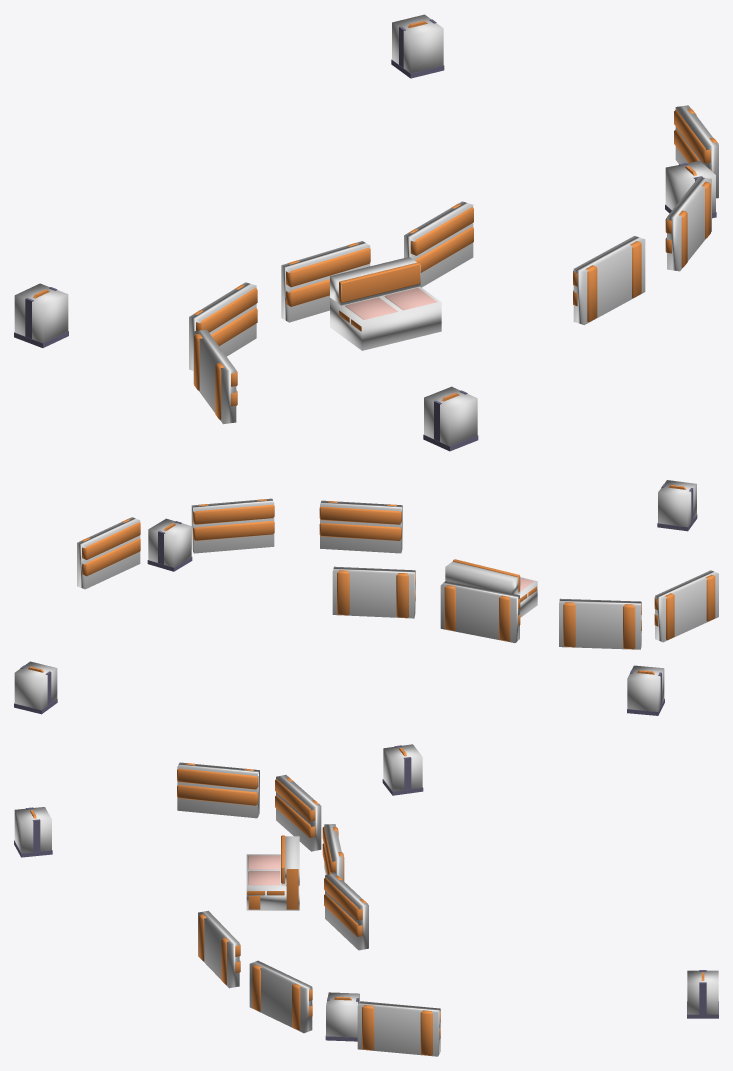
File: sceneryDynamic.glb
3 renders of one model, top to bottom at view 1: azimuth 30°, elevation 25°; view 2: azimuth 150°, elevation 25°; view 3: azimuth 270°, elevation 25°, orthographic. The views are drawn at different scales.
Parts seen in each view (by area): view 1: cube, cube.006, Cube.162, Cube.158, Cube.150, cube.007, Cube.134, cube.004, Cube.131, Cube.048, cube.005, cube.003 (+11 smaller); view 2: cube.002, cube.003, cube.005, cube.004, Cube.135, Cube.136, cube.007, cube.006, Cube.137, cube.008, Cube.150, Cube.154 (+10 smaller); view 3: cube.008, cube.007, Cube.133, cube.004, cube.006, Cube.162, cube.002, Cube.158, Cube.154, cube.003, Cube.150, Cube.137 (+8 smaller).
Part boxes in pixels (x1=…): cube: x1=330, y1=286, x2=441, y2=350; cube.006: x1=573, y1=236, x2=645, y2=325; Cube.162: x1=14, y1=283, x2=68, y2=342; Cube.158: x1=424, y1=386, x2=477, y2=446; Cube.150: x1=392, y1=14, x2=443, y2=73; cube.007: x1=667, y1=177, x2=711, y2=271; Cube.134: x1=286, y1=242, x2=370, y2=306; cube.004: x1=193, y1=329, x2=236, y2=424; Cube.131: x1=409, y1=203, x2=473, y2=272; Cube.048: x1=339, y1=262, x2=420, y2=331; cube.005: x1=281, y1=241, x2=370, y2=322; cube.003: x1=404, y1=201, x2=473, y2=287; cube.002: x1=559, y1=598, x2=641, y2=649; cube.003: x1=332, y1=566, x2=415, y2=618; cube.005: x1=440, y1=581, x2=519, y2=642; cube.004: x1=655, y1=570, x2=718, y2=642; Cube.135: x1=319, y1=501, x2=401, y2=540; Cube.136: x1=193, y1=499, x2=274, y2=540; cube.007: x1=191, y1=498, x2=274, y2=553; cube.006: x1=320, y1=500, x2=402, y2=553; Cube.137: x1=82, y1=519, x2=140, y2=576; cube.008: x1=77, y1=517, x2=140, y2=589; Cube.150: x1=14, y1=661, x2=57, y2=709; Cube.154: x1=148, y1=518, x2=191, y2=567; cube.008: x1=357, y1=1001, x2=440, y2=1056; cube.007: x1=249, y1=960, x2=312, y2=1033; Cube.133: x1=177, y1=763, x2=258, y2=805; cube.004: x1=177, y1=762, x2=259, y2=818; cube.006: x1=198, y1=910, x2=239, y2=988; Cube.162: x1=383, y1=744, x2=422, y2=791; cube.002: x1=276, y1=775, x2=321, y2=851; Cube.158: x1=14, y1=807, x2=51, y2=853; Cube.154: x1=326, y1=992, x2=359, y2=1037; cube.003: x1=325, y1=873, x2=368, y2=950; Cube.150: x1=687, y1=970, x2=718, y2=1014; Cube.137: x1=362, y1=1005, x2=440, y2=1055.
Bounding box in the file's own units: 17.1 × 1.41 × 18.32.
